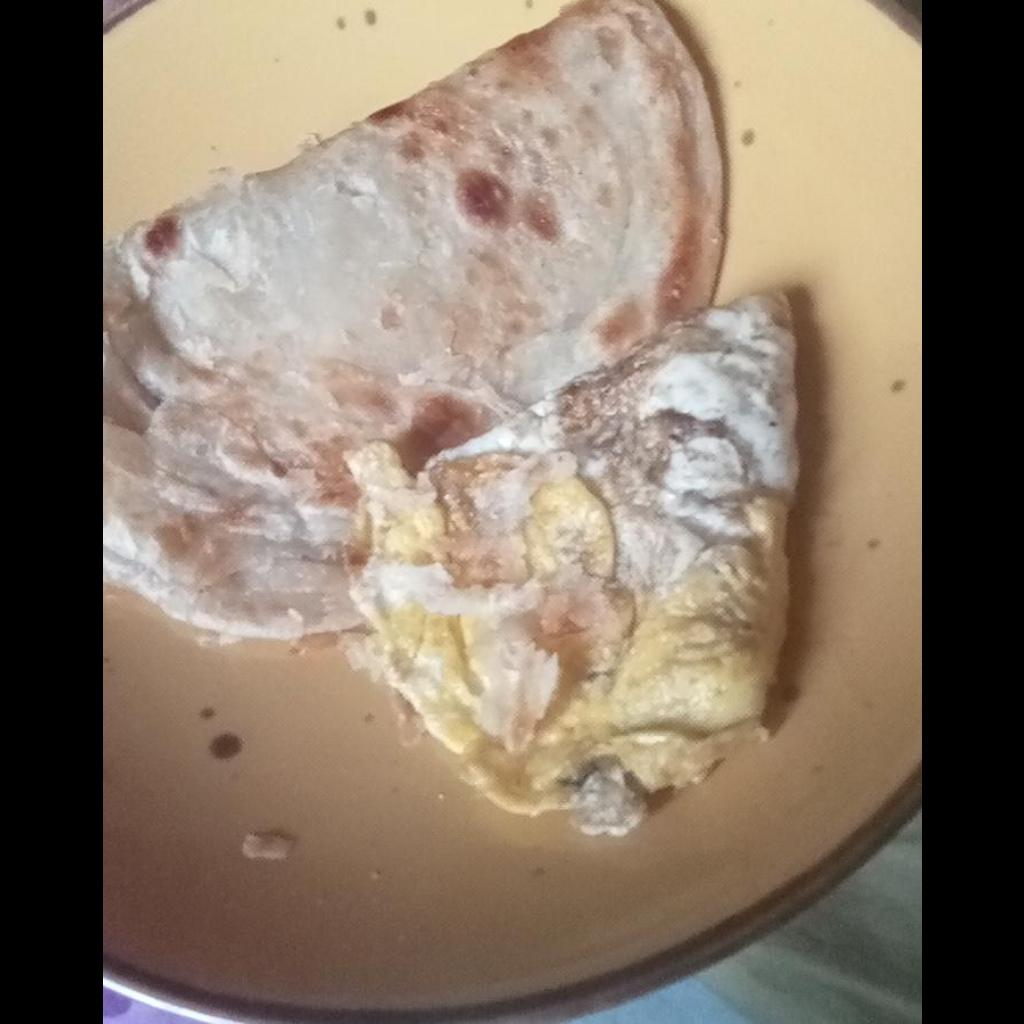egg: (358, 288, 800, 837)
ruti: (102, 0, 729, 635)
